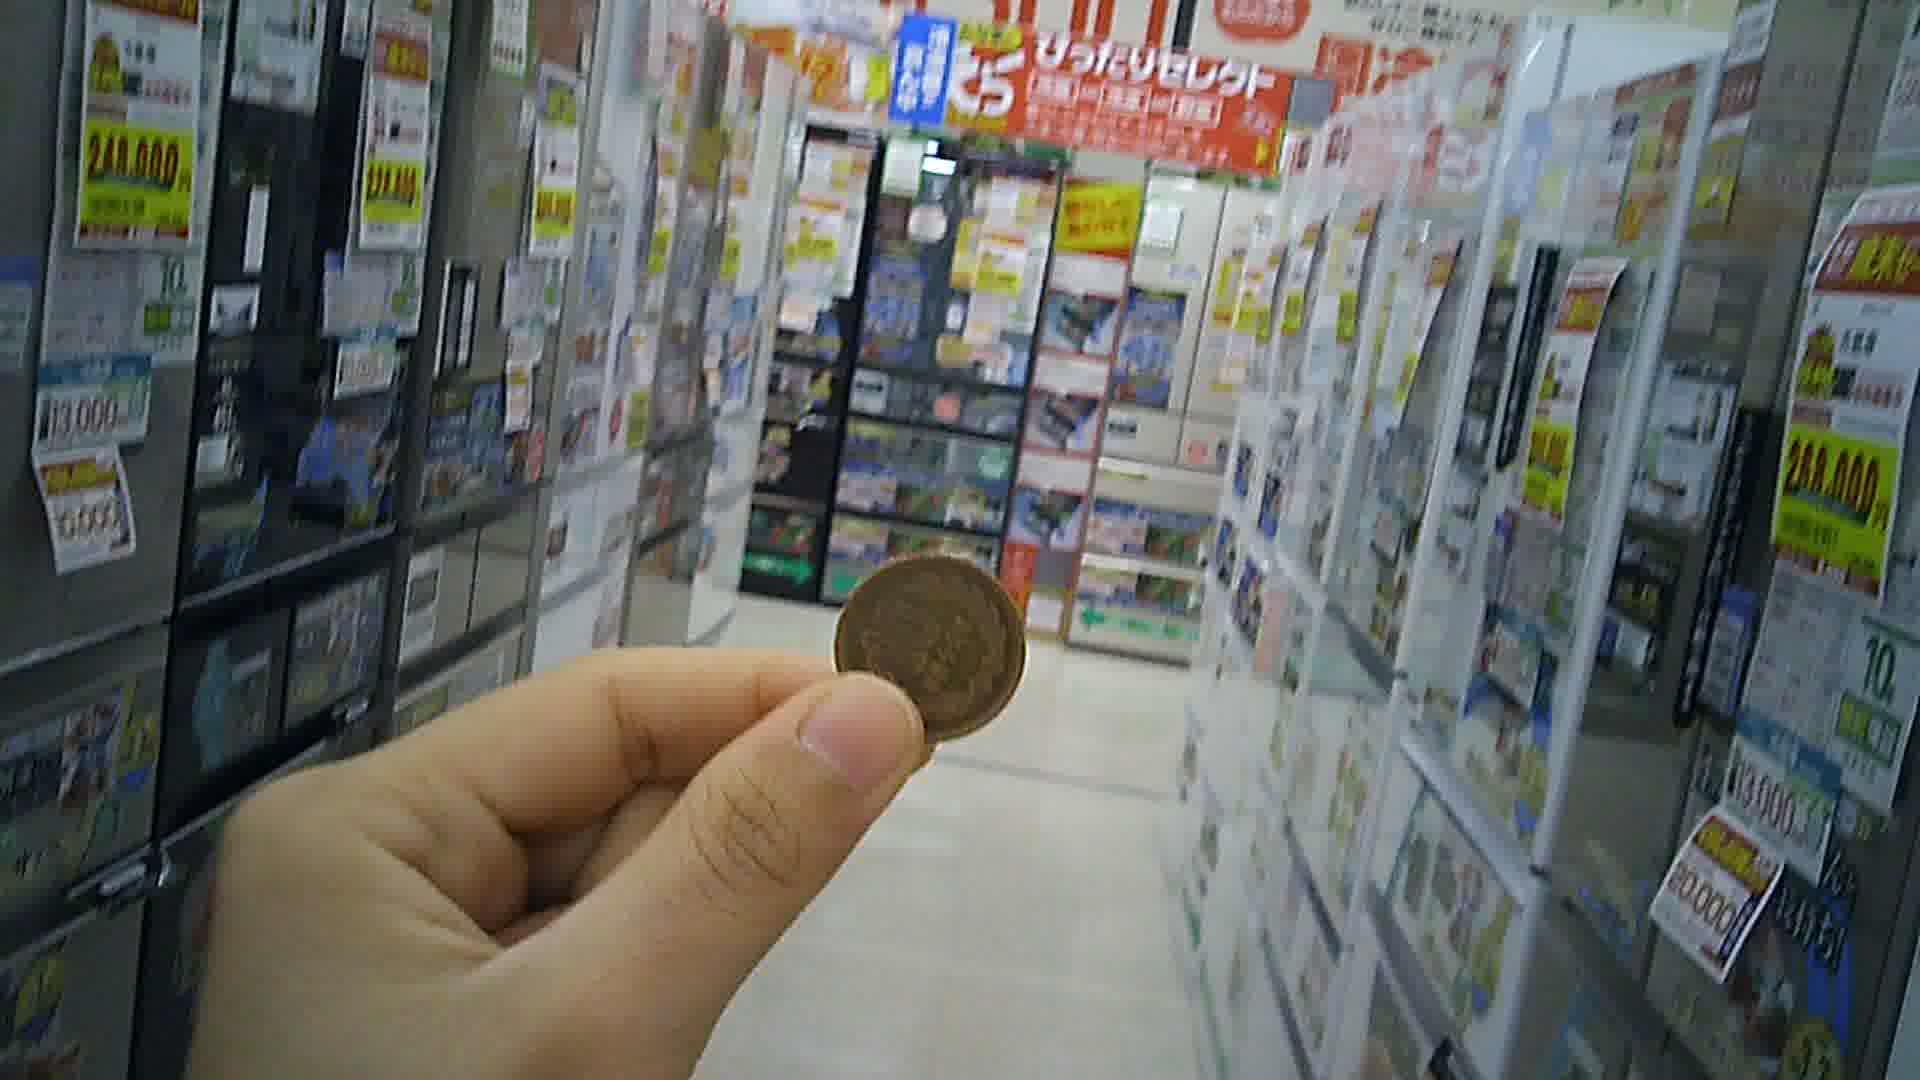10 Yen: (828, 549, 1034, 742)
